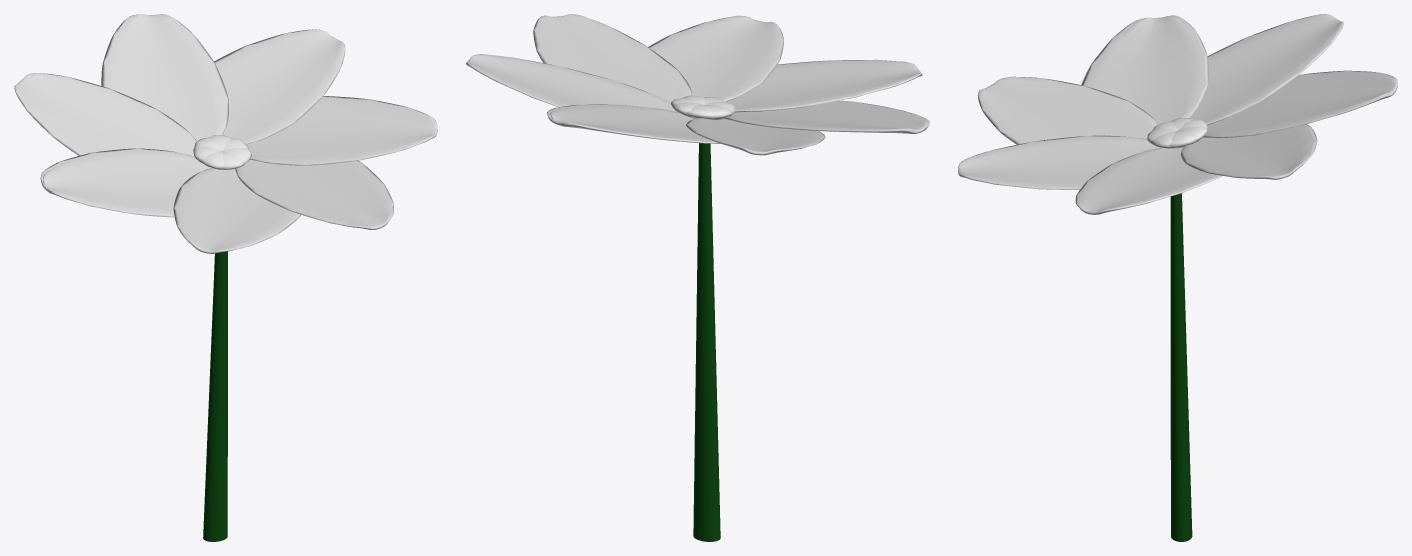
File: flowe2.fbx
3 views of the same model, side by side, from view 1: azimuth 30°, elevation 25°; view 2: azimuth 150°, elevation 25°; view 3: azimuth 270°, elevation 25° (orthographic). The views are drawn at different scales.
Visible parts, largest first — view 1: Circle, Circle.003; view 2: Circle, Circle.003; view 3: Circle, Circle.003.
Part boxes in pixels (box(x1,y1,x2,y2)): Circle: box(14, 14, 437, 253); Circle.003: box(203, 251, 227, 541); Circle: box(466, 14, 929, 155); Circle.003: box(693, 143, 720, 541); Circle: box(958, 14, 1397, 214); Circle.003: box(1170, 193, 1192, 541).
Size of the model in its own units: 622 by 718 by 613.
